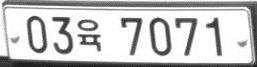0: (148, 16, 172, 57), (25, 15, 48, 53)
1: (202, 16, 225, 58)
3: (50, 15, 74, 54)
7: (118, 16, 145, 57), (174, 16, 198, 57)
육: (76, 18, 103, 53)
